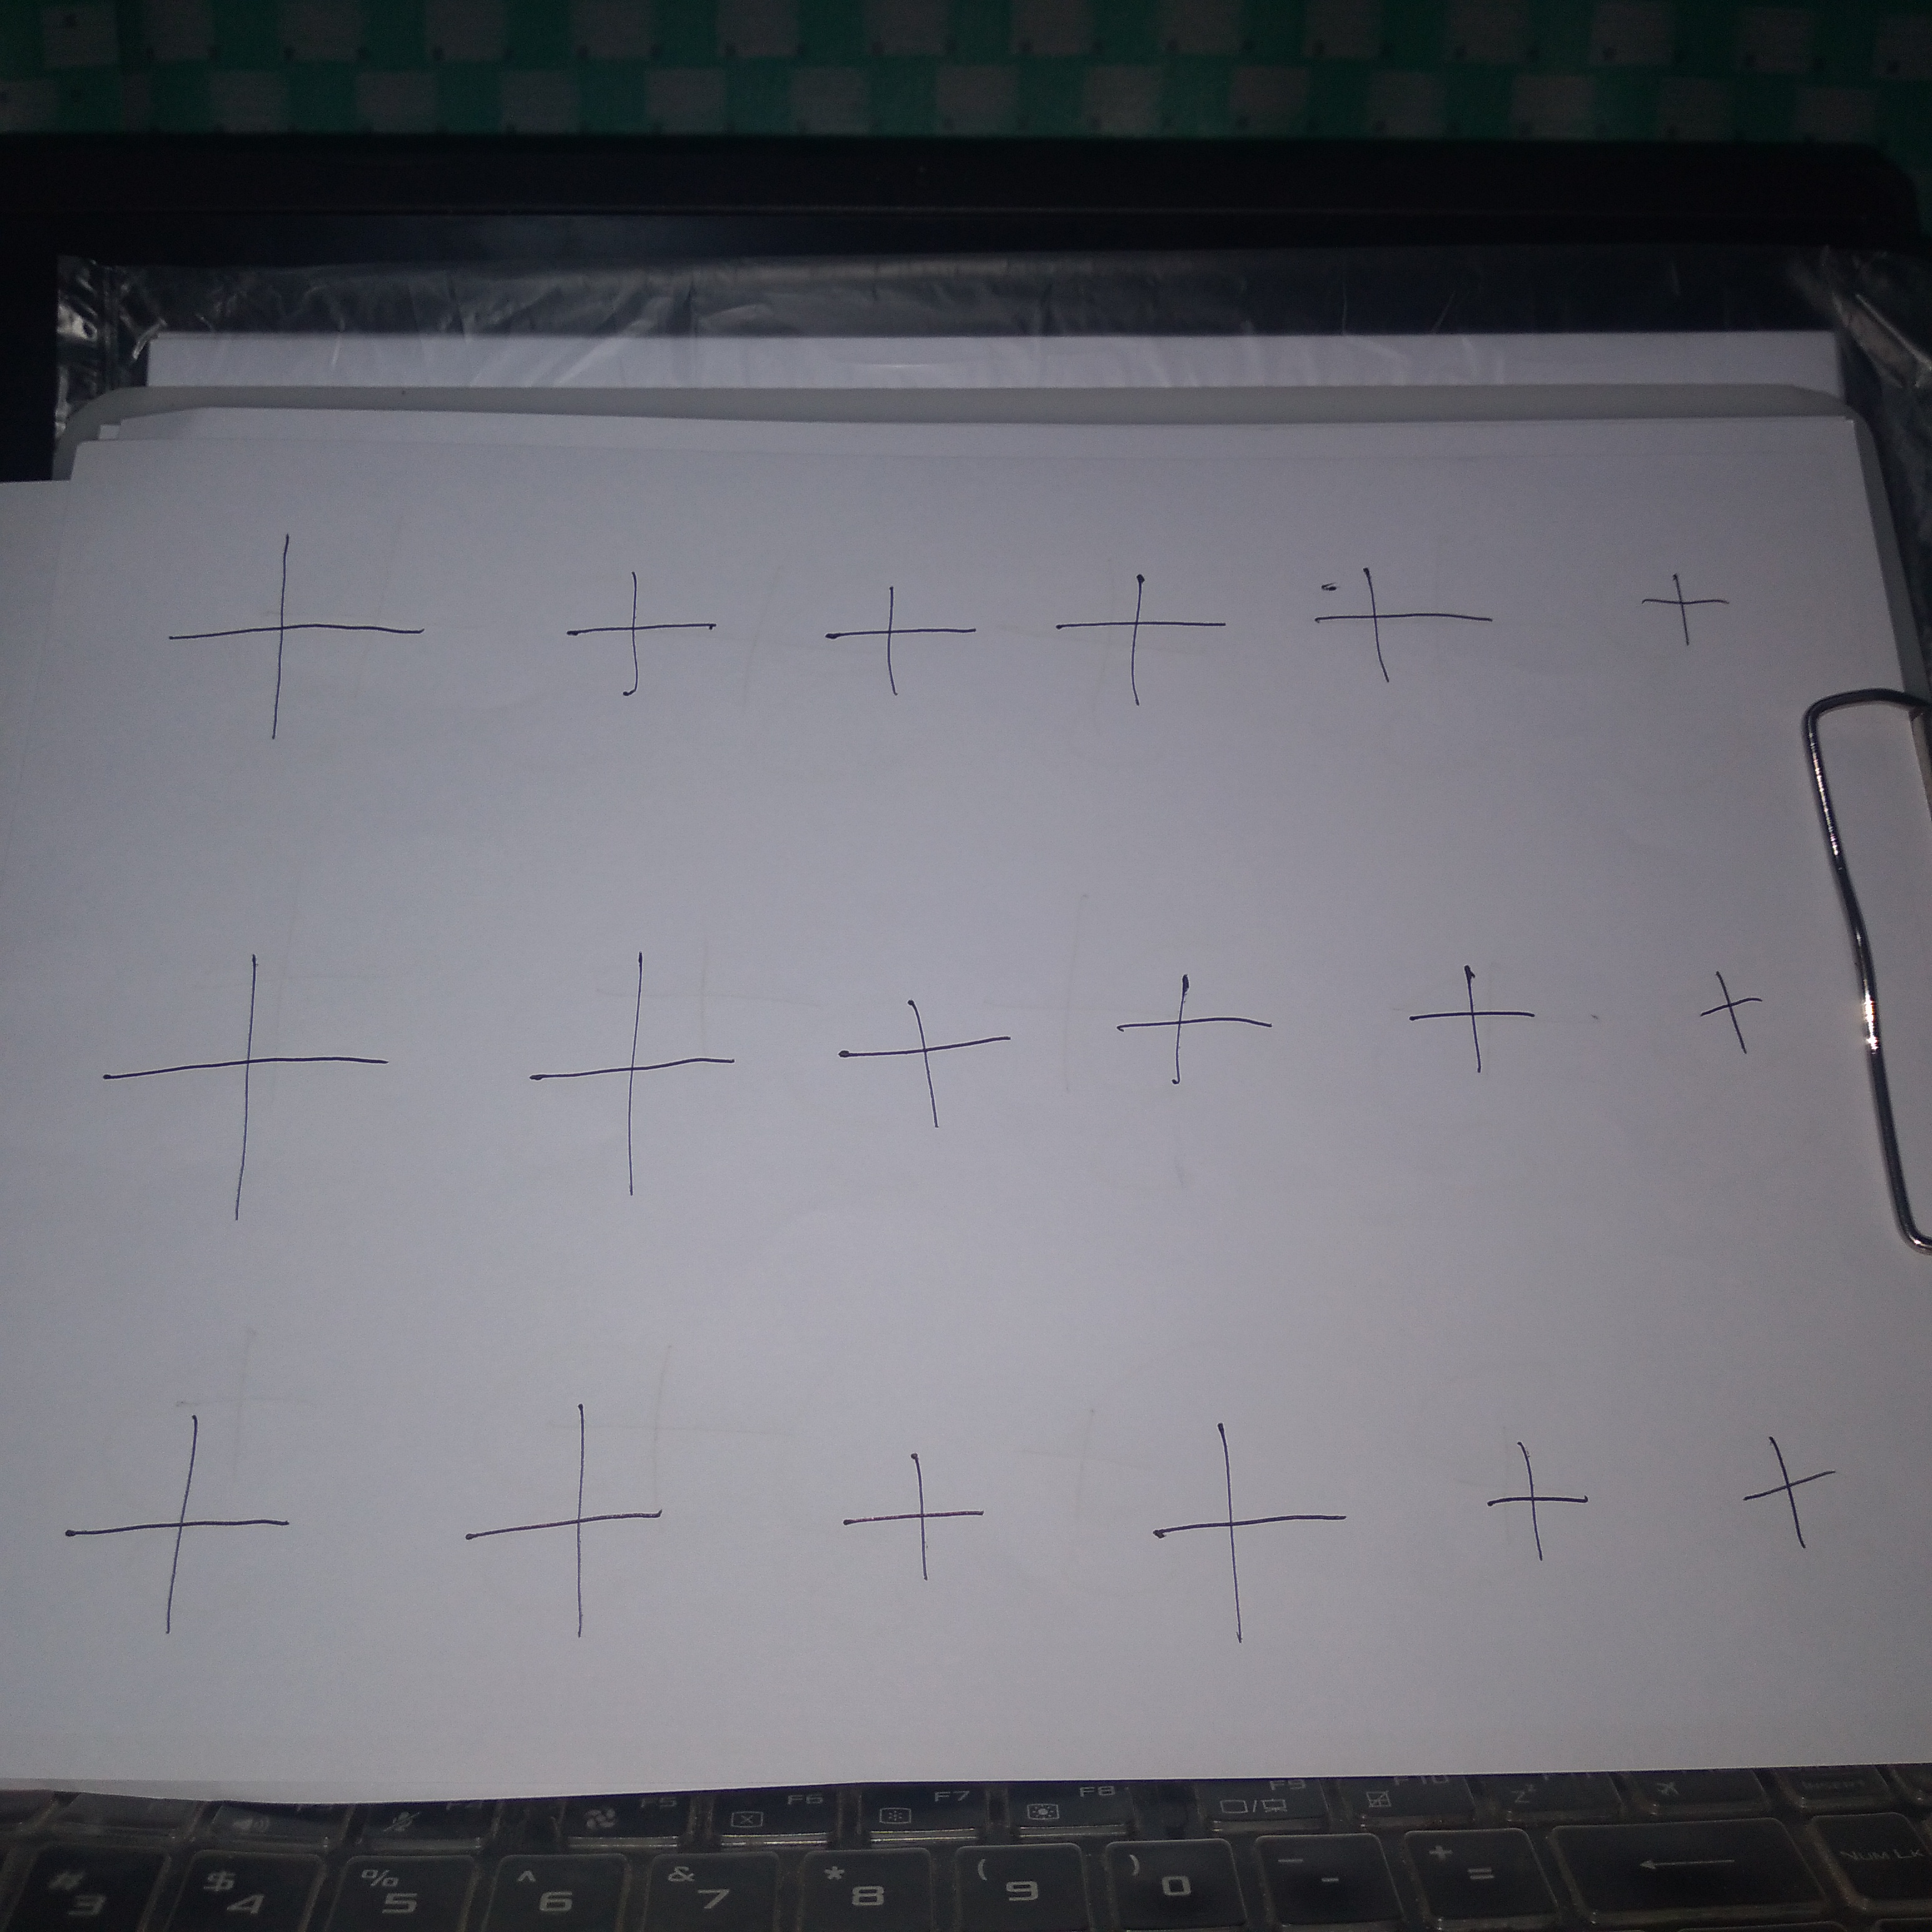sum: (34, 1373, 301, 1655), (442, 1379, 716, 1644), (111, 951, 380, 1218), (1121, 1397, 1365, 1654), (527, 933, 743, 1207), (171, 532, 432, 751), (821, 974, 1017, 1169), (1306, 560, 1485, 705), (840, 1418, 985, 1599), (1106, 947, 1274, 1102), (1411, 963, 1579, 1117), (1480, 1411, 1615, 1593), (1720, 1405, 1841, 1601), (821, 576, 983, 715), (1064, 557, 1221, 701), (567, 572, 719, 715), (1681, 957, 1772, 1111), (1643, 566, 1746, 644)
